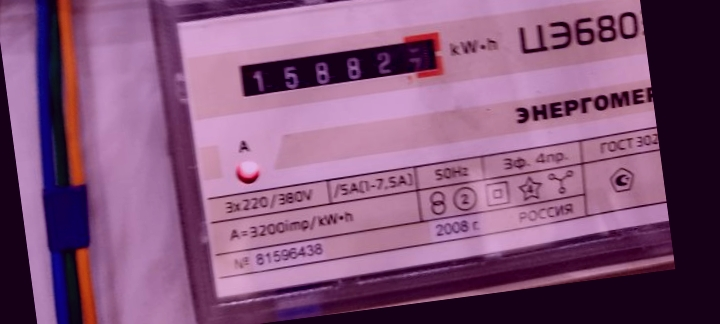1: (250, 67, 267, 94)
2: (375, 47, 394, 75)
5: (281, 63, 300, 90)
7: (407, 54, 423, 71)
8: (343, 53, 362, 80), (312, 59, 331, 85)
screen: (224, 23, 456, 112)
